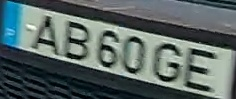0: (120, 35, 147, 75)
6: (95, 28, 121, 69)
A: (28, 13, 61, 57)
B: (62, 19, 92, 61)
E: (181, 46, 217, 94)
G: (151, 42, 184, 83)
